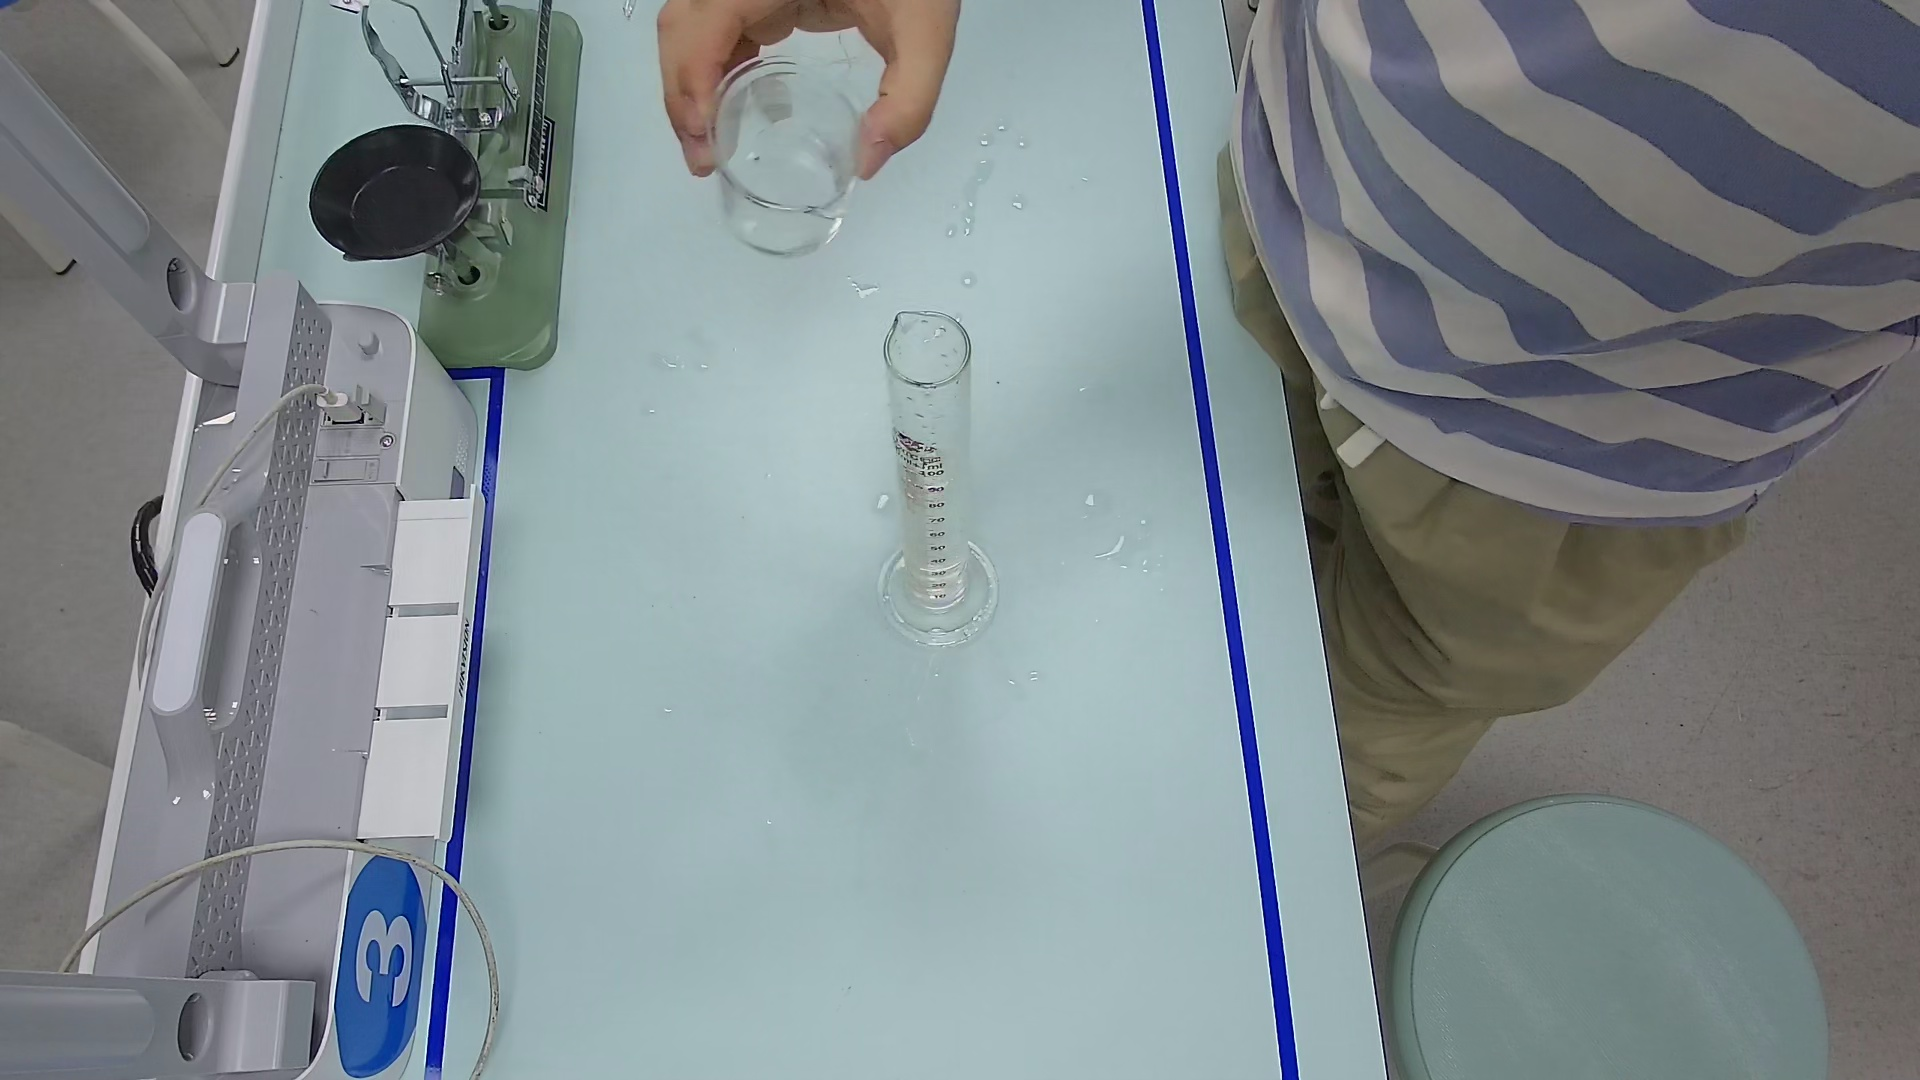ao: (895, 442, 965, 502)
bei: (696, 37, 870, 265)
hand: (637, 1, 978, 175)
liangdi: (872, 535, 996, 646)
liangtong: (864, 302, 1001, 649)
tuo: (299, 115, 500, 258)
